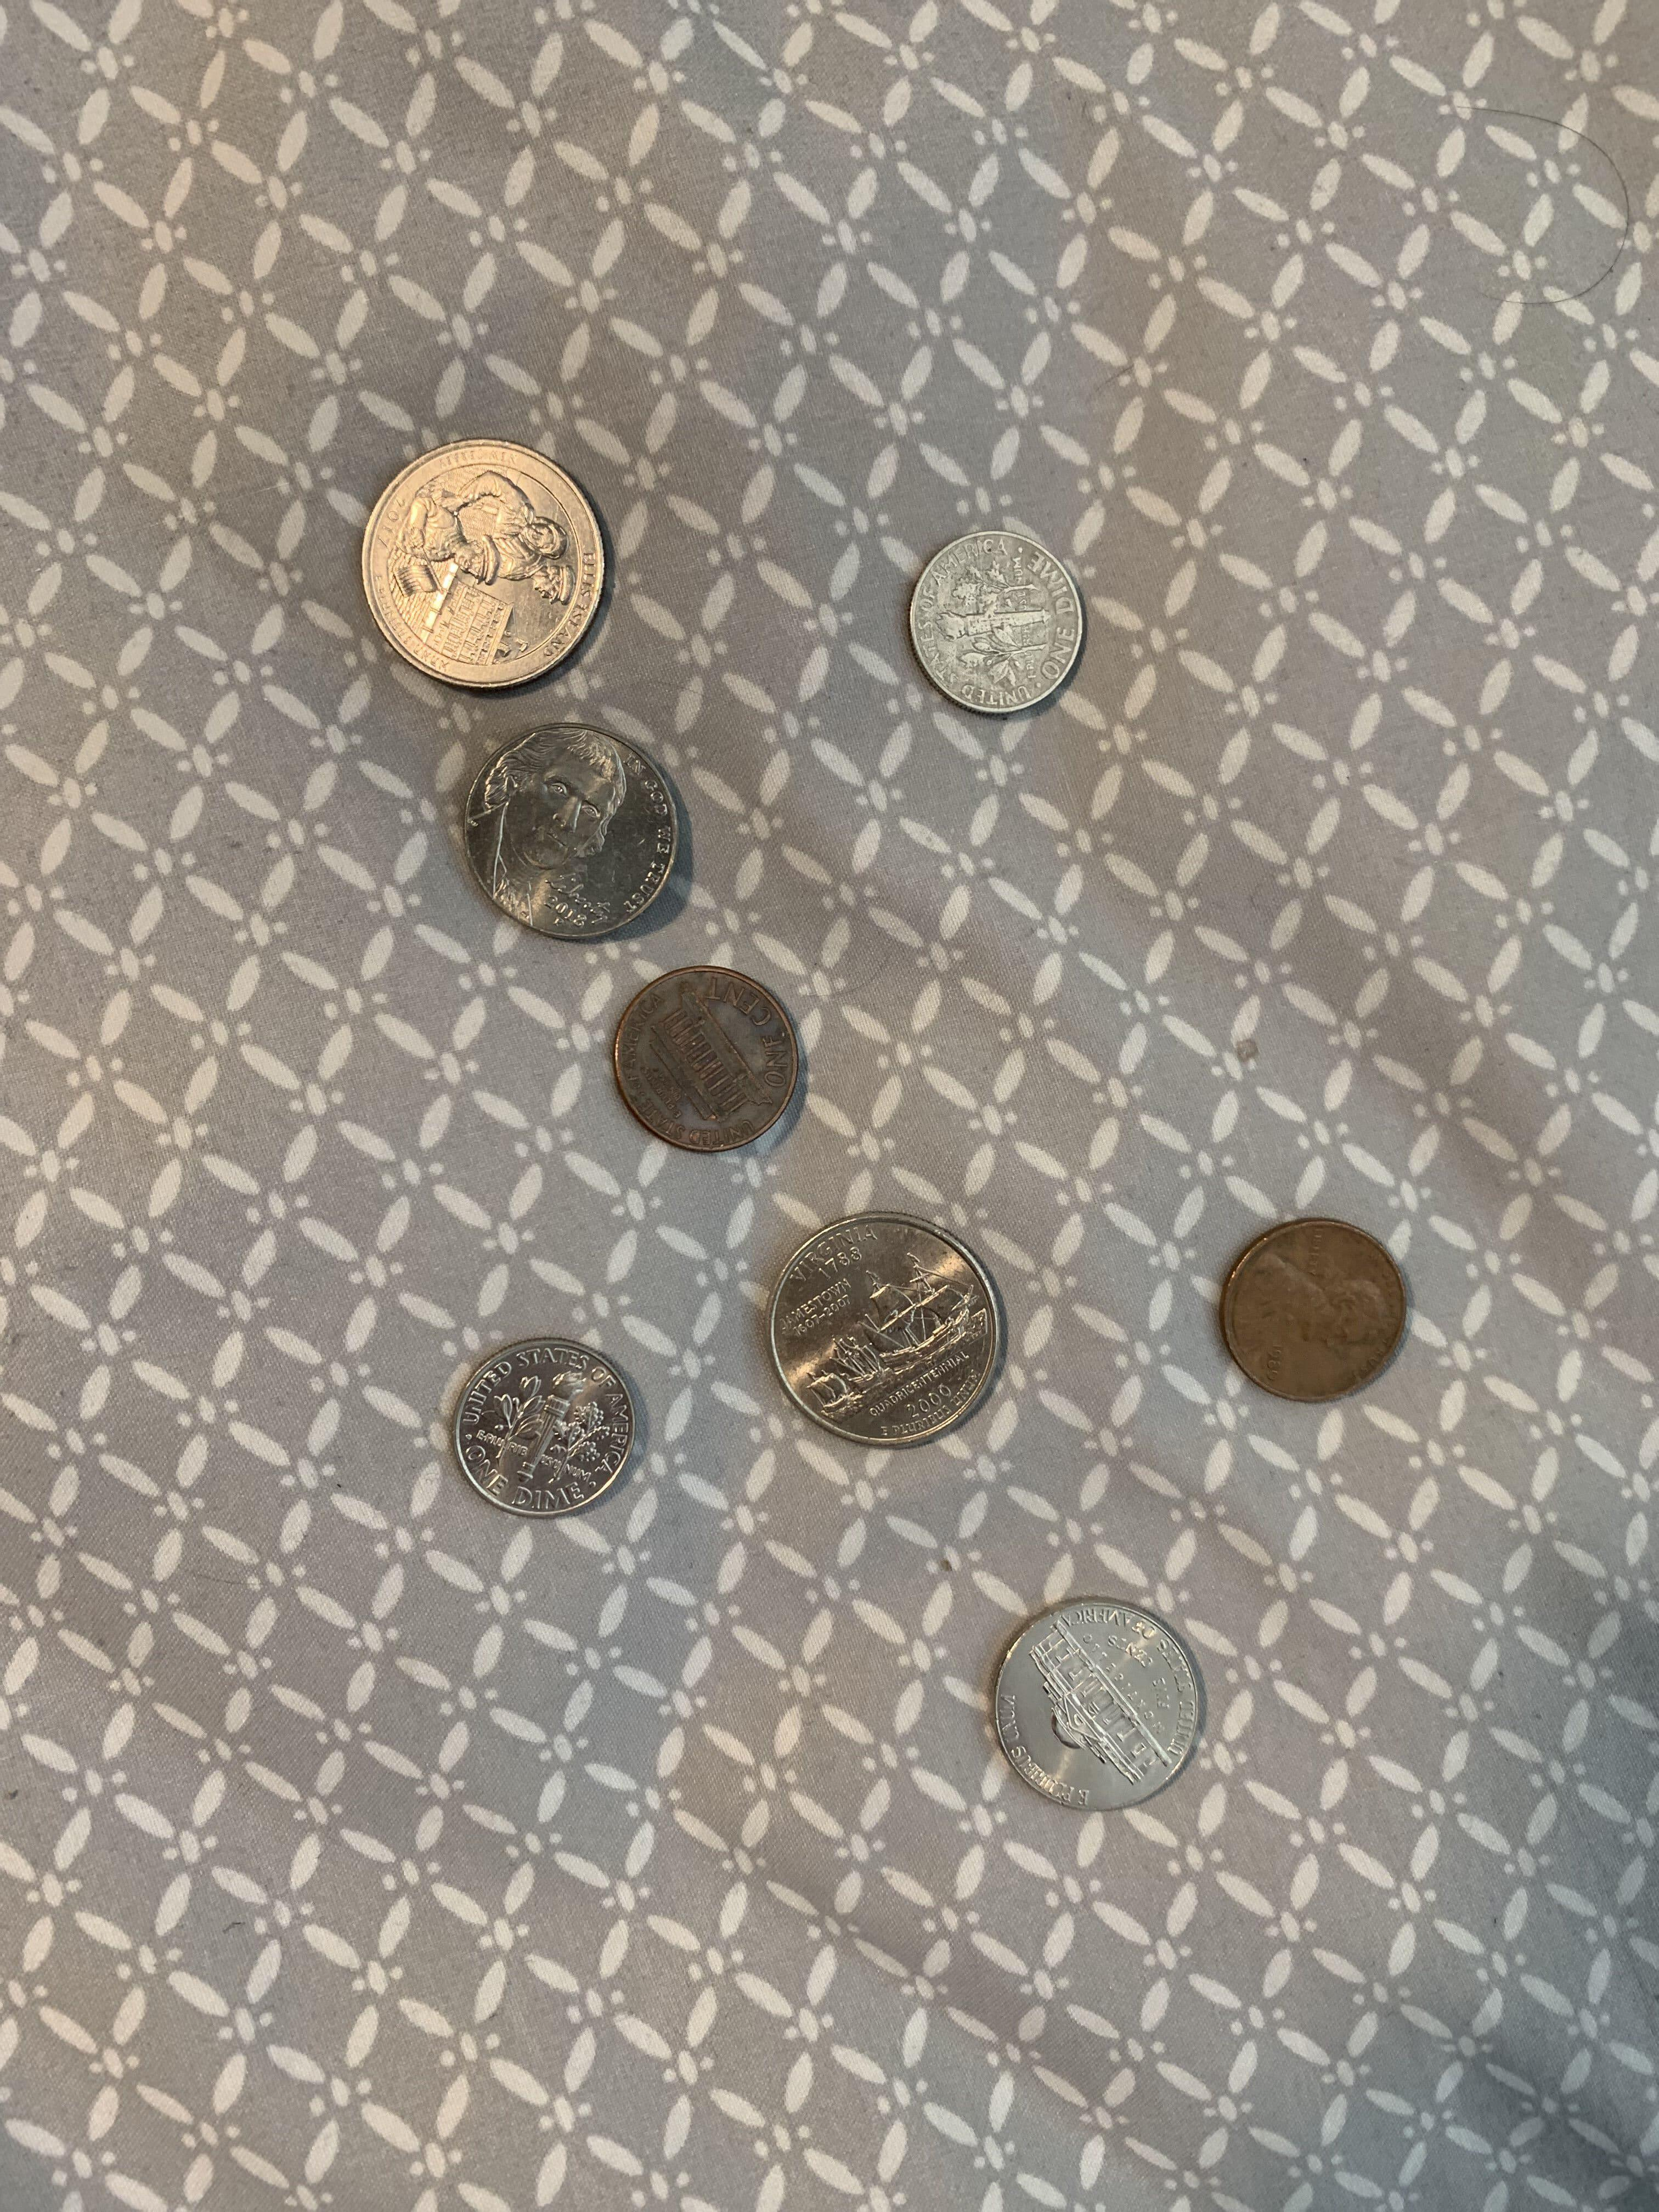Dime: (859, 510, 1148, 758), (430, 1303, 659, 1554)
Nickel: (924, 1583, 1263, 1827), (422, 691, 725, 954)
Penny: (1180, 1198, 1441, 1425), (582, 949, 833, 1165)
Quarter: (317, 411, 647, 697), (732, 1188, 1047, 1470)
